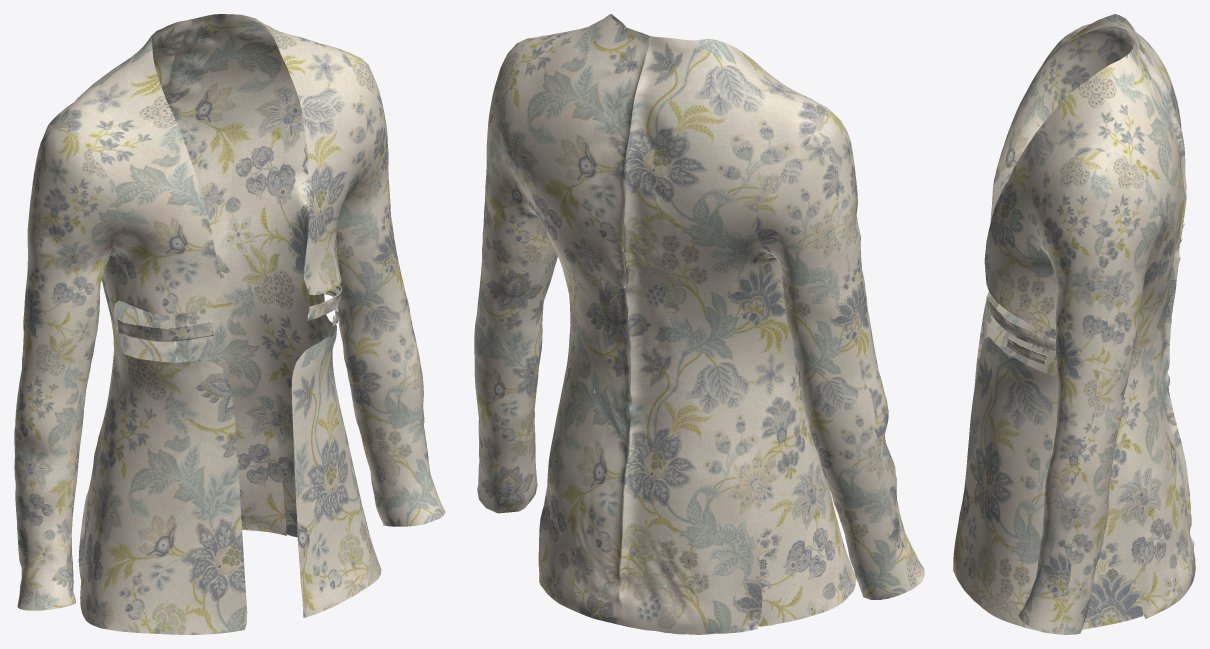
File: full_lining_side_vent.glb
3 views of the same model, side by side, from view 1: azimuth 30°, elevation 25°; view 2: azimuth 150°, elevation 25°; view 3: azimuth 270°, elevation 25° (orthographic). The views are drawn at different scales.
Parts seen in each view (by area): view 1: lining_side_vent.003, Cloth.002; view 2: lining_side_vent.003; view 3: lining_side_vent.003, Cloth.002.
Part boxes in pixels (box(x1,y1,x2,y2)): lining_side_vent.003: box(14, 14, 445, 634); Cloth.002: box(117, 285, 341, 341); lining_side_vent.003: box(474, 14, 924, 634); lining_side_vent.003: box(953, 14, 1195, 634); Cloth.002: box(986, 295, 1055, 364).
Size of the model in its own units: 59.89 by 74.35 by 30.55.
1 material, 1 textured.
